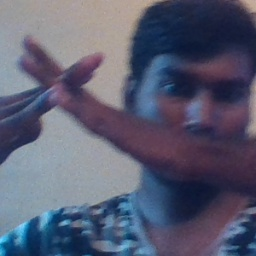W: (4, 28, 121, 160)
